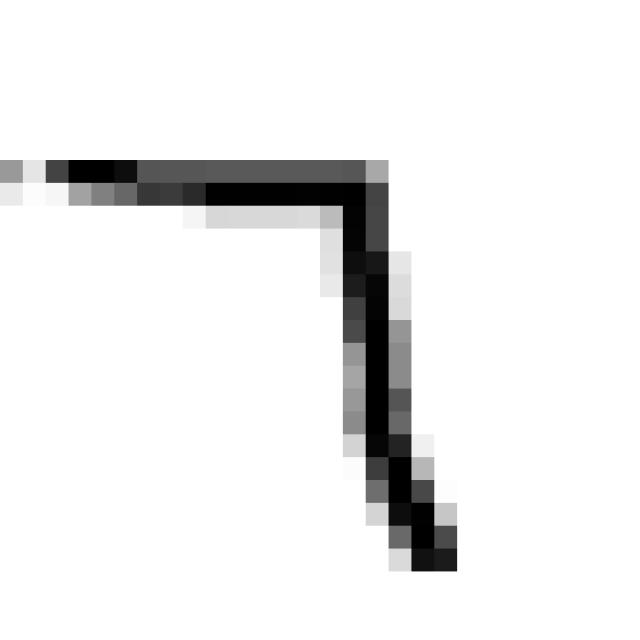6 -six-: (0, 130, 476, 589)
